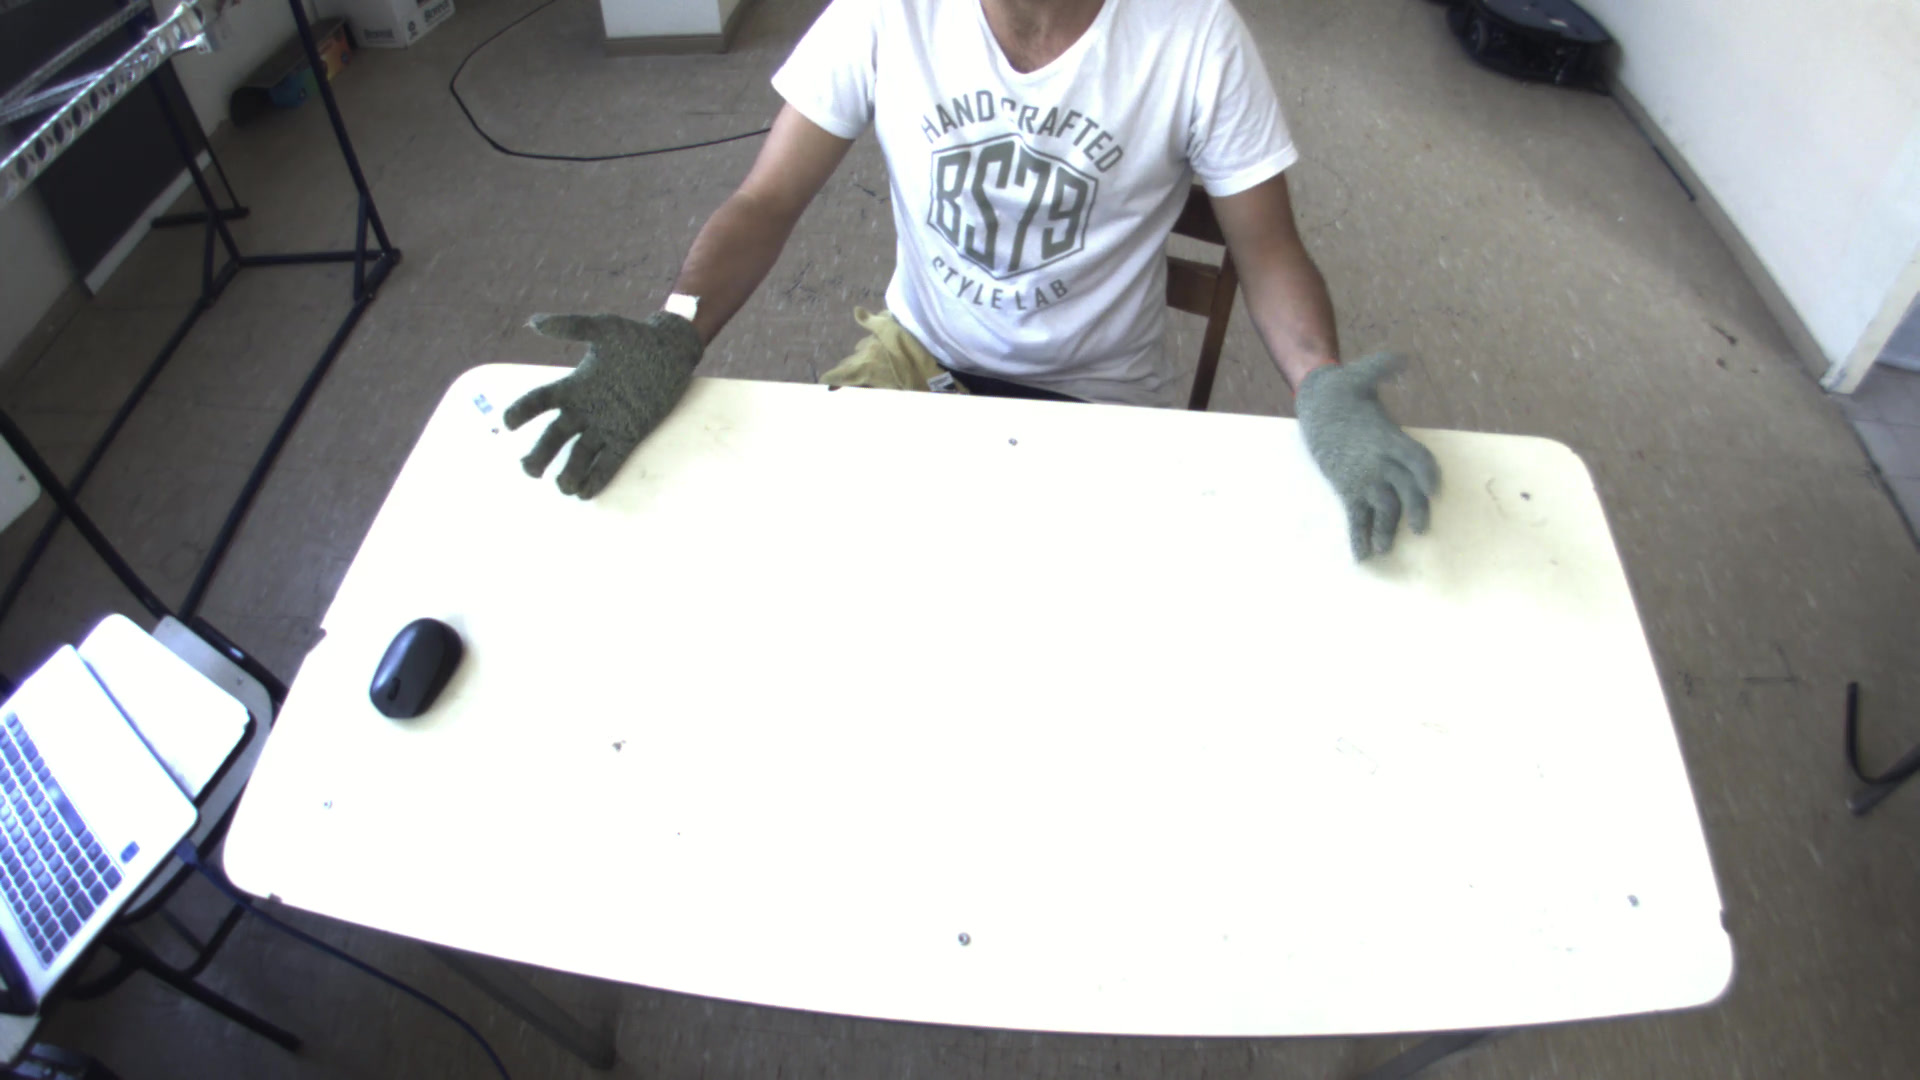hand: (471, 294, 712, 502), (1283, 343, 1464, 559)
